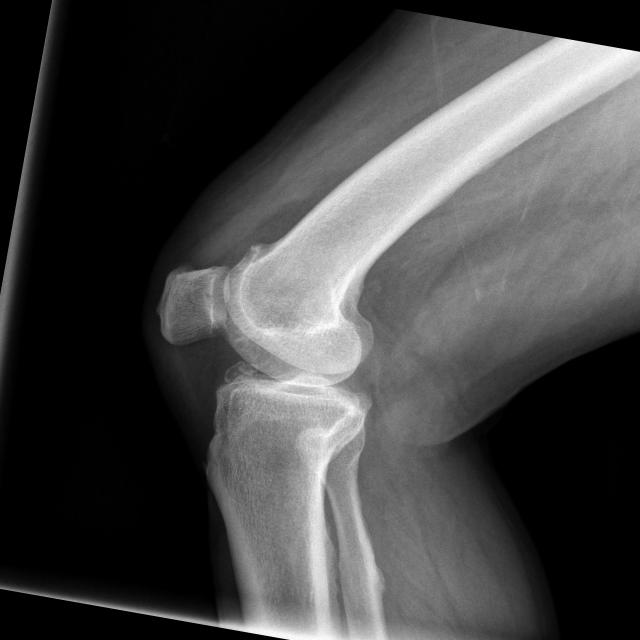Knee: (134, 234, 394, 471)
